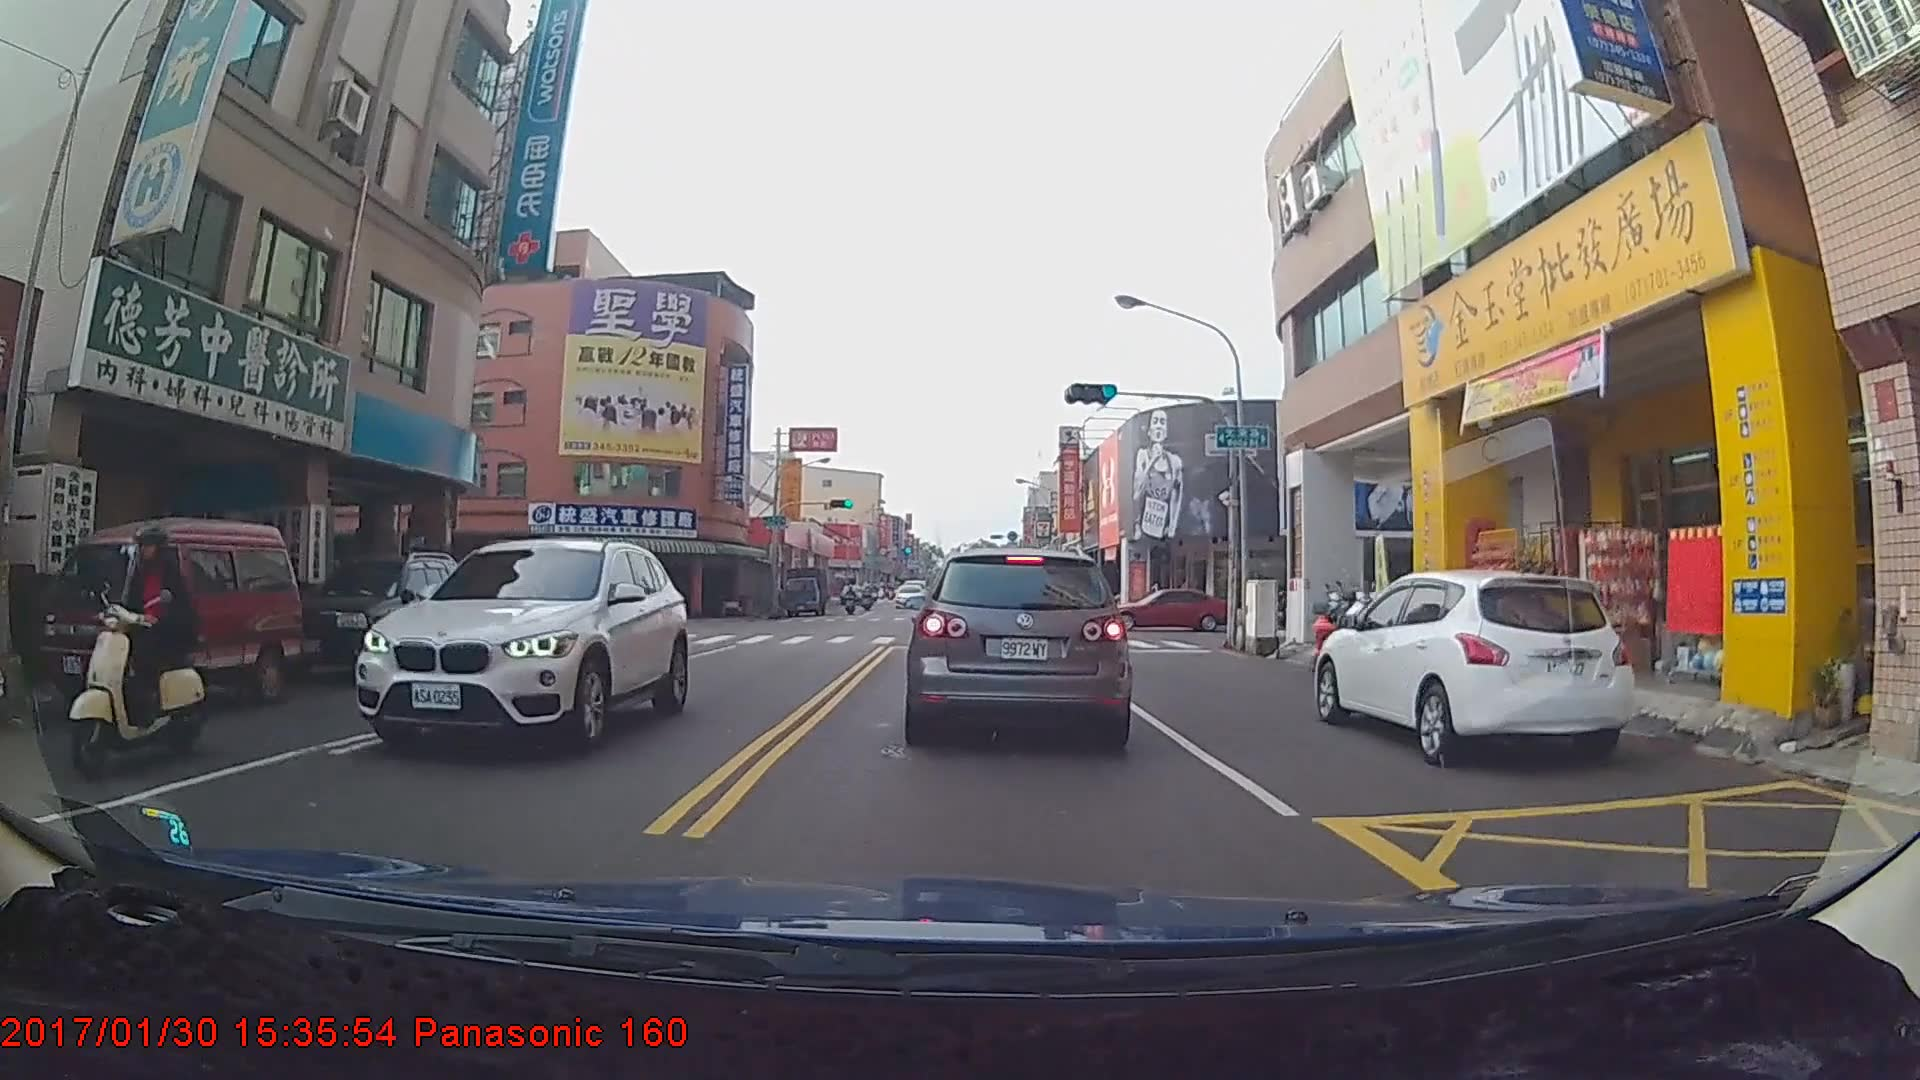rider: (64, 516, 221, 781), (840, 577, 861, 612), (847, 576, 867, 605)
vehicle: (350, 535, 691, 750), (1314, 567, 1635, 765), (51, 517, 304, 705), (909, 543, 1125, 746), (273, 552, 461, 685), (1104, 584, 1228, 632), (778, 563, 830, 614), (893, 580, 925, 606)
